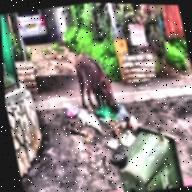boar: (69, 50, 120, 121)
